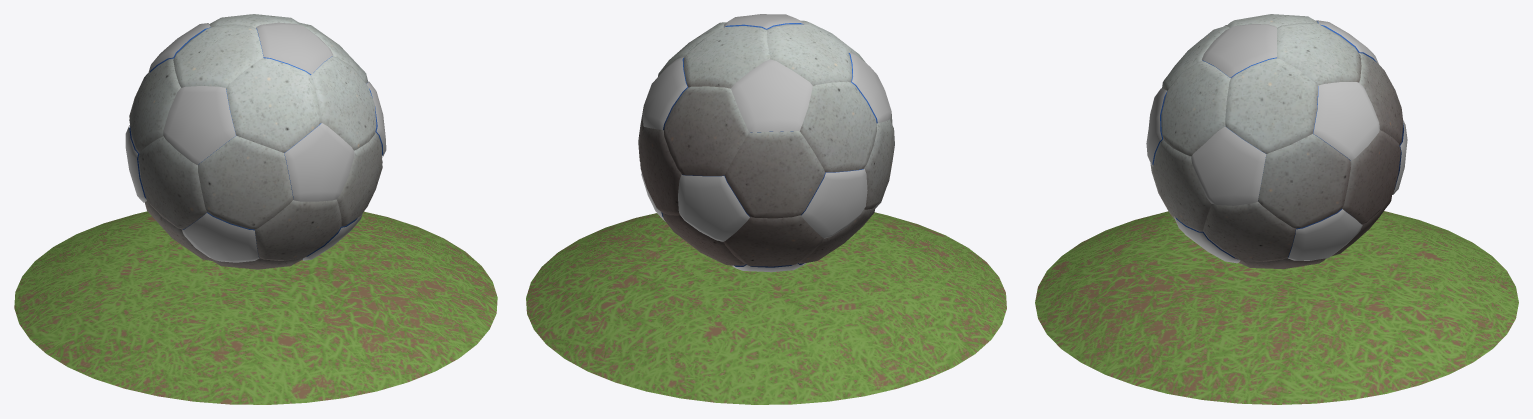
The model's file is Qua_bong.fbx.
The picture shows the model from 3 angles, left to right: view 1: azimuth 30°, elevation 25°; view 2: azimuth 150°, elevation 25°; view 3: azimuth 270°, elevation 25°; orthographic projection.
Visible parts, largest first — view 1: Bai_co, Layer_1, polySurface6, polySurface11, polySurface9, polySurface12, polySurface4, polySurface7, polySurface2; view 2: Bai_co, Layer_1, polySurface4, polySurface3, polySurface7, polySurface5, polySurface6, polySurface9; view 3: Bai_co, Layer_1, polySurface2, polySurface5, polySurface9, polySurface1, polySurface11, polySurface8, polySurface4.
Part boxes in pixels (left/top/right/bottom): Bai_co: left=14, top=211, right=497, bottom=404; Layer_1: left=129, top=14, right=383, bottom=269; polySurface6: left=163, top=86, right=235, bottom=164; polySurface11: left=284, top=123, right=354, bottom=201; polySurface9: left=256, top=22, right=333, bottom=74; polySurface12: left=182, top=213, right=259, bottom=262; polySurface4: left=148, top=23, right=210, bottom=73; polySurface7: left=125, top=125, right=146, bottom=202; polySurface2: left=366, top=81, right=386, bottom=157; Bai_co: left=526, top=212, right=1006, bottom=404; Layer_1: left=638, top=20, right=894, bottom=267; polySurface4: left=731, top=59, right=812, bottom=132; polySurface3: left=678, top=175, right=749, bottom=241; polySurface7: left=801, top=169, right=867, bottom=238; polySurface5: left=642, top=57, right=687, bottom=129; polySurface6: left=848, top=51, right=891, bottom=122; polySurface9: left=723, top=14, right=804, bottom=28; Bai_co: left=1035, top=211, right=1518, bottom=404; Layer_1: left=1150, top=14, right=1403, bottom=269; polySurface2: left=1191, top=126, right=1266, bottom=205; polySurface5: left=1313, top=82, right=1379, bottom=160; polySurface9: left=1202, top=24, right=1276, bottom=77; polySurface1: left=1288, top=209, right=1362, bottom=260; polySurface11: left=1146, top=88, right=1166, bottom=166; polySurface8: left=1174, top=216, right=1240, bottom=263; polySurface4: left=1316, top=20, right=1378, bottom=63.
Size of the model in its own units: 416 by 265 by 416.
